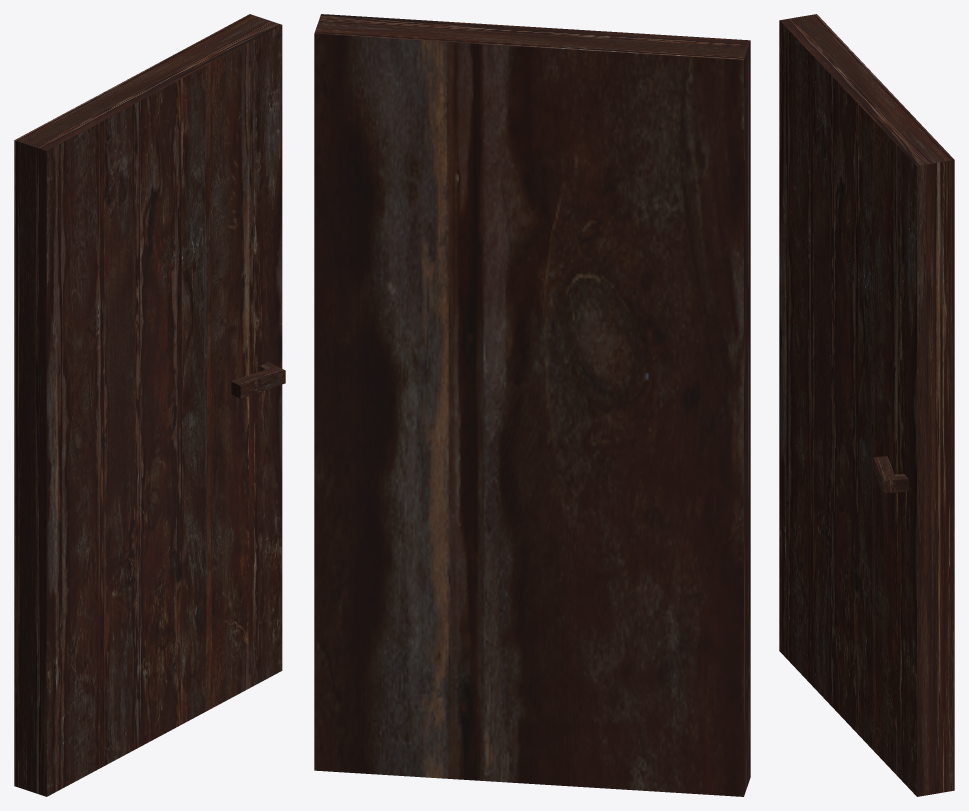
Rendered from door.fbx.
3 renders of one model, left to right at view 1: azimuth 30°, elevation 25°; view 2: azimuth 150°, elevation 25°; view 3: azimuth 270°, elevation 25°, orthographic. The views are drawn at different scales.
Parts seen in each view (by area): view 1: Door; view 2: Door; view 3: Door.
Part boxes in pixels (x1,y1,x2,y2): Door: [14, 14, 285, 796]; Door: [314, 14, 750, 796]; Door: [779, 14, 954, 796].
Bounding box in the file's own units: 1014 × 1960 × 493.
